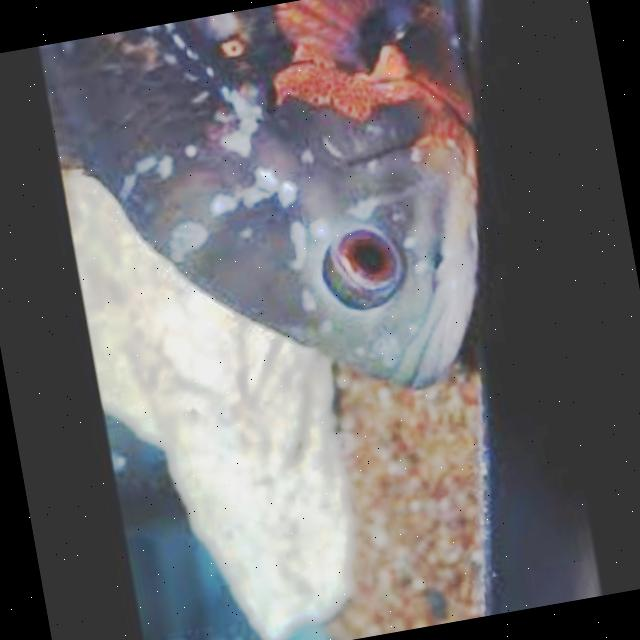Streptococcus: (43, 0, 476, 387)
